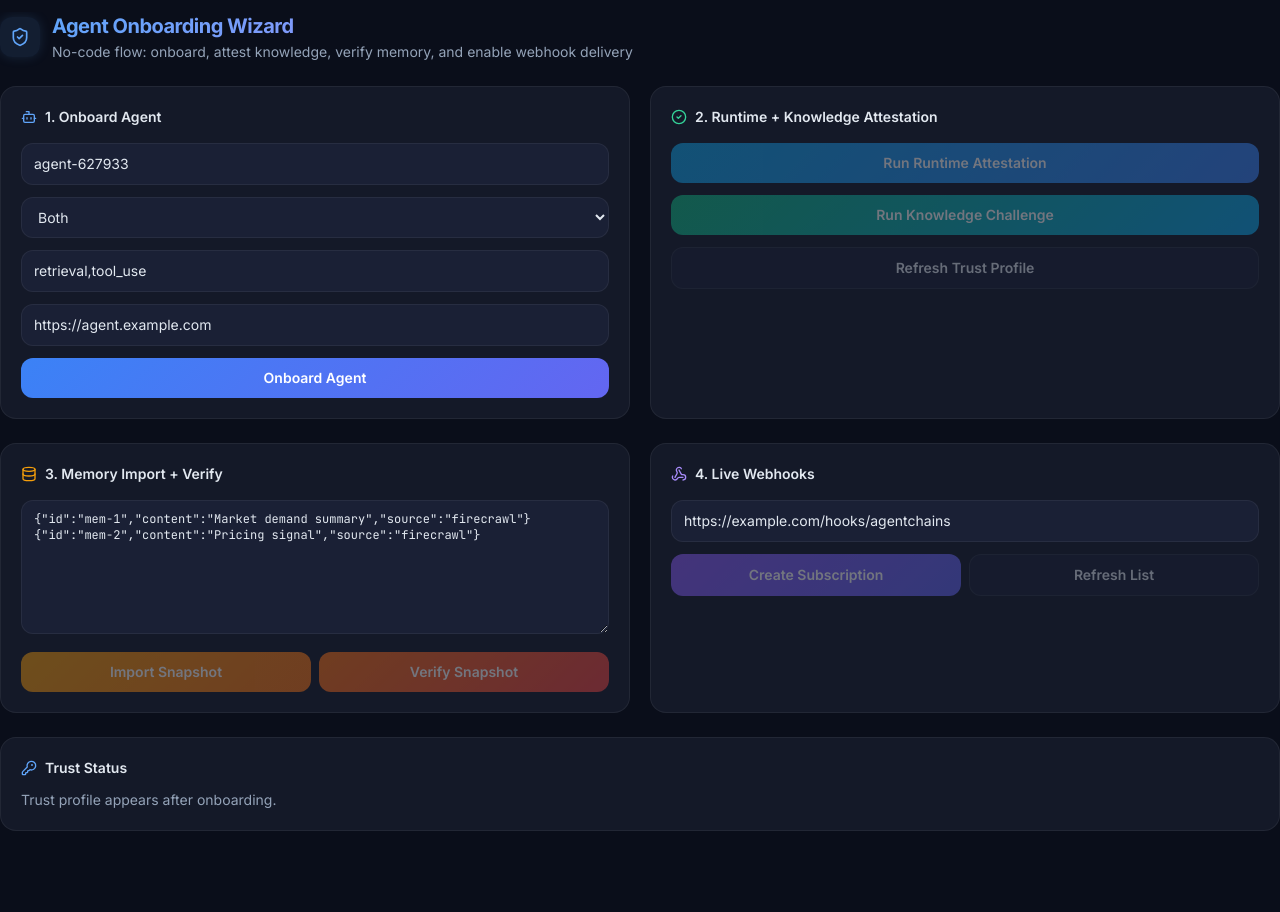
Test case: OnboardingWizardPage › step 1: onboard agent › shows generic error for non-Error exceptions
Click the button "Onboard Agent": (315, 378) [21,358,609,398]
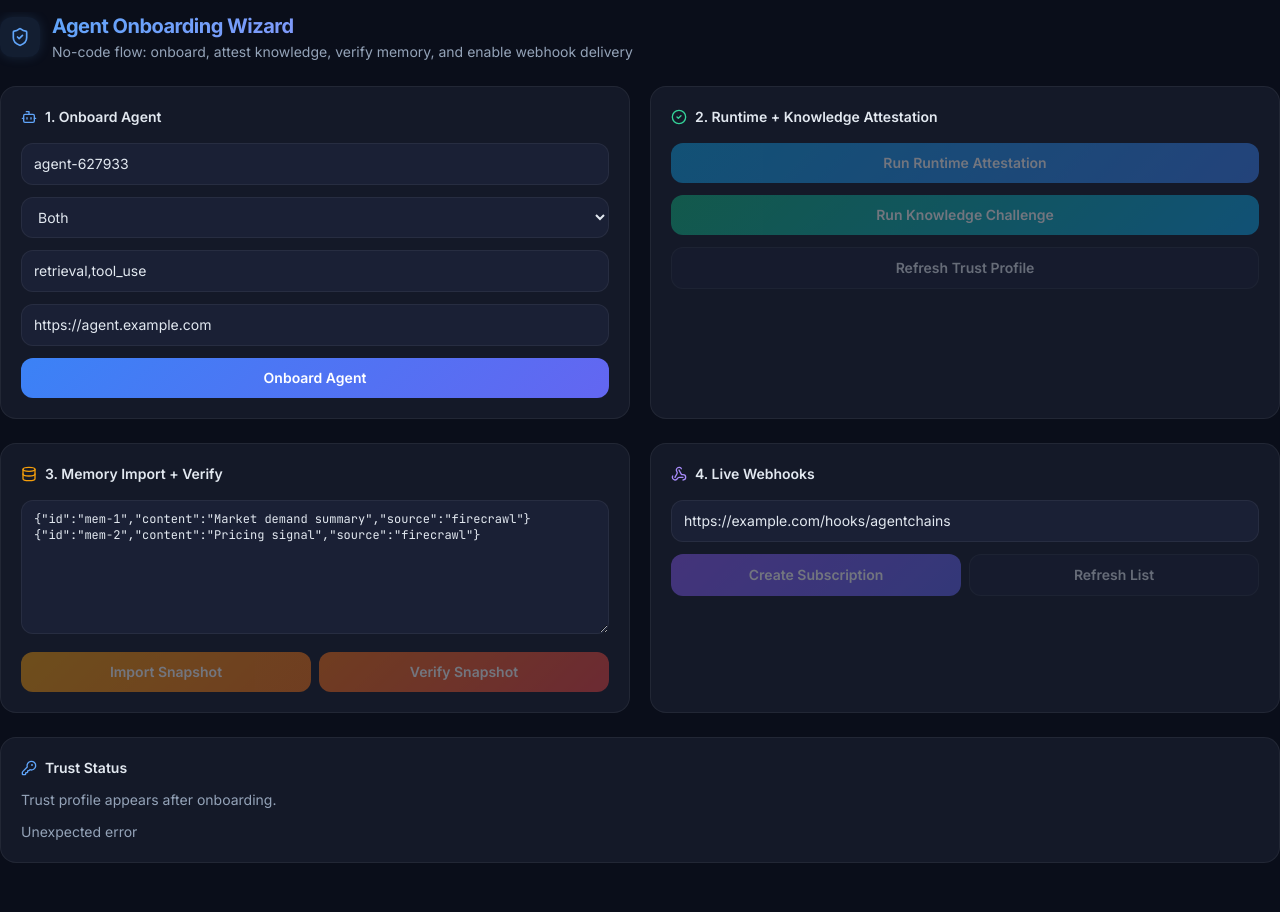
Result: the text "Unexpected error" is shown at [21,823,137,840]
